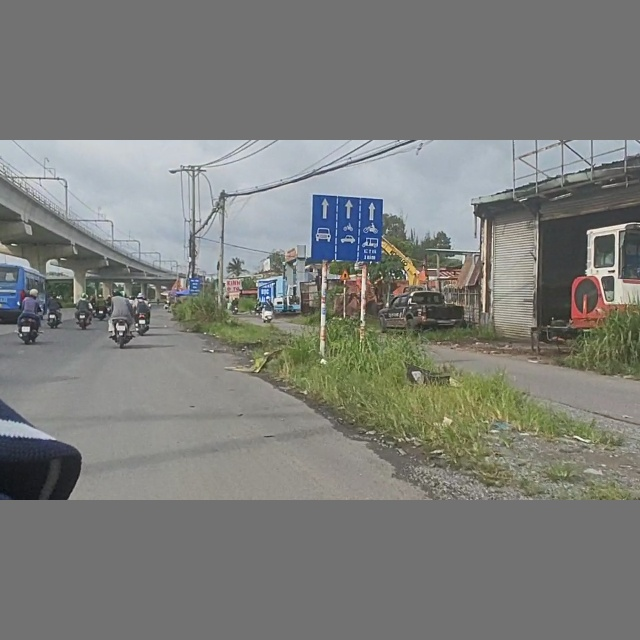R.415a: (310, 193, 384, 263)
W.207: (339, 269, 353, 281)
